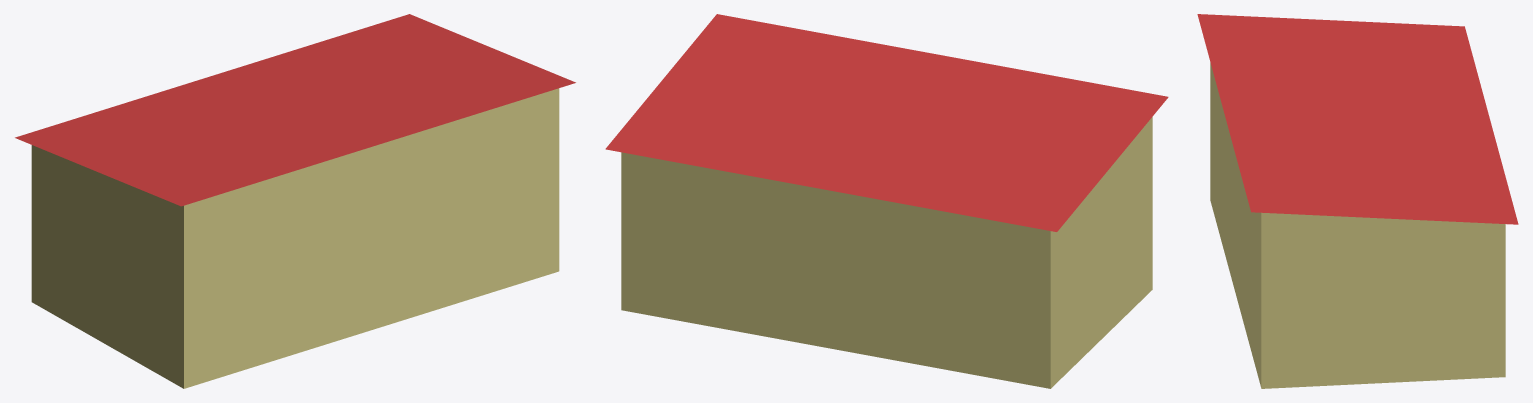
3 renders of one model, left to right at view 1: azimuth 30°, elevation 25°; view 2: azimuth 150°, elevation 25°; view 3: azimuth 270°, elevation 25°, orthographic. The views are drawn at different scales.
Bounding box in the file's own units: 21.24 × 13.65 × 8.54.
